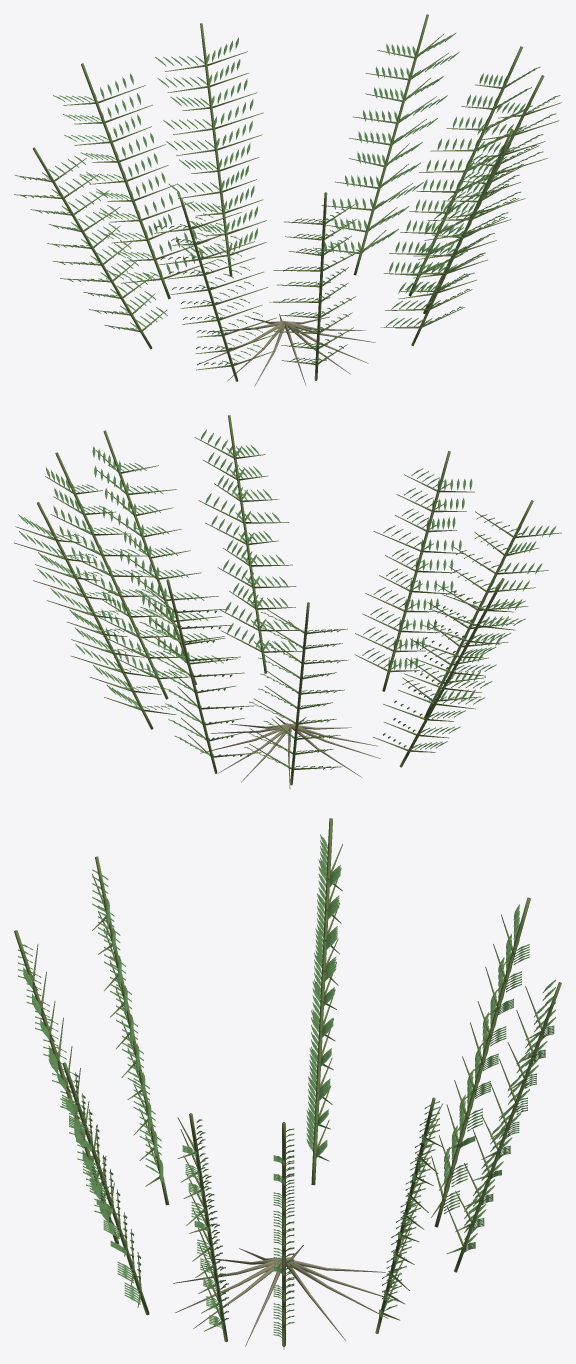
The model's file is javamoss-mobile.glb.
3 views of the same model, one above another, from view 1: azimuth 30°, elevation 25°; view 2: azimuth 150°, elevation 25°; view 3: azimuth 270°, elevation 25° (orthographic). The views are drawn at different scales.
Parts seen in each view (by area): view 1: moss-leaf, moss-branch, moss-axis, anchoring-root; view 2: moss-leaf, moss-branch, moss-axis, anchoring-root; view 3: moss-leaf, moss-axis, moss-branch, anchoring-root.
Boxes of the visible parts, x1,y1,x2,y2 form: moss-leaf: [19, 32, 560, 365]; moss-branch: [14, 34, 561, 370]; moss-axis: [33, 14, 544, 381]; anchoring-root: [199, 314, 375, 386]; moss-leaf: [18, 429, 556, 769]; moss-branch: [14, 437, 561, 770]; moss-axis: [37, 415, 533, 785]; anchoring-root: [200, 716, 380, 789]; moss-leaf: [18, 834, 555, 1338]; moss-axis: [14, 818, 561, 1346]; moss-branch: [32, 844, 542, 1341]; anchoring-root: [173, 1245, 398, 1349].
Size of the model in its own units: 0.7595 by 0.3561 by 0.5392.
